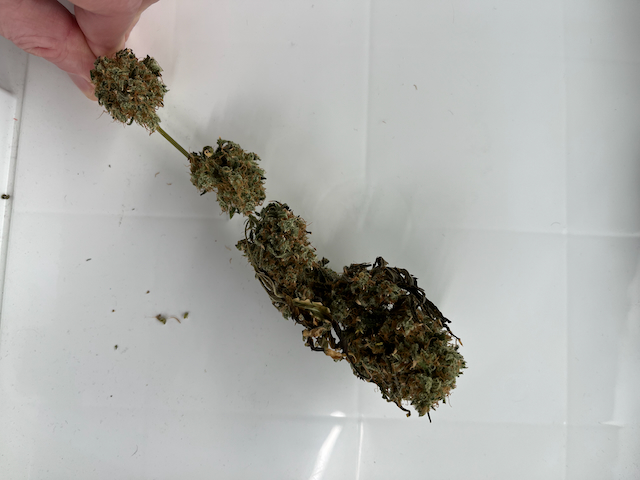Bud: (338, 263, 467, 415), (96, 50, 168, 128), (240, 205, 315, 278), (188, 139, 264, 209)
Leaf: (257, 273, 286, 307), (292, 296, 326, 316), (299, 325, 326, 341), (369, 250, 389, 268), (321, 346, 343, 362), (392, 401, 411, 416)
Leaf-Attachment: (254, 268, 263, 277)
Stem: (152, 122, 192, 165)
